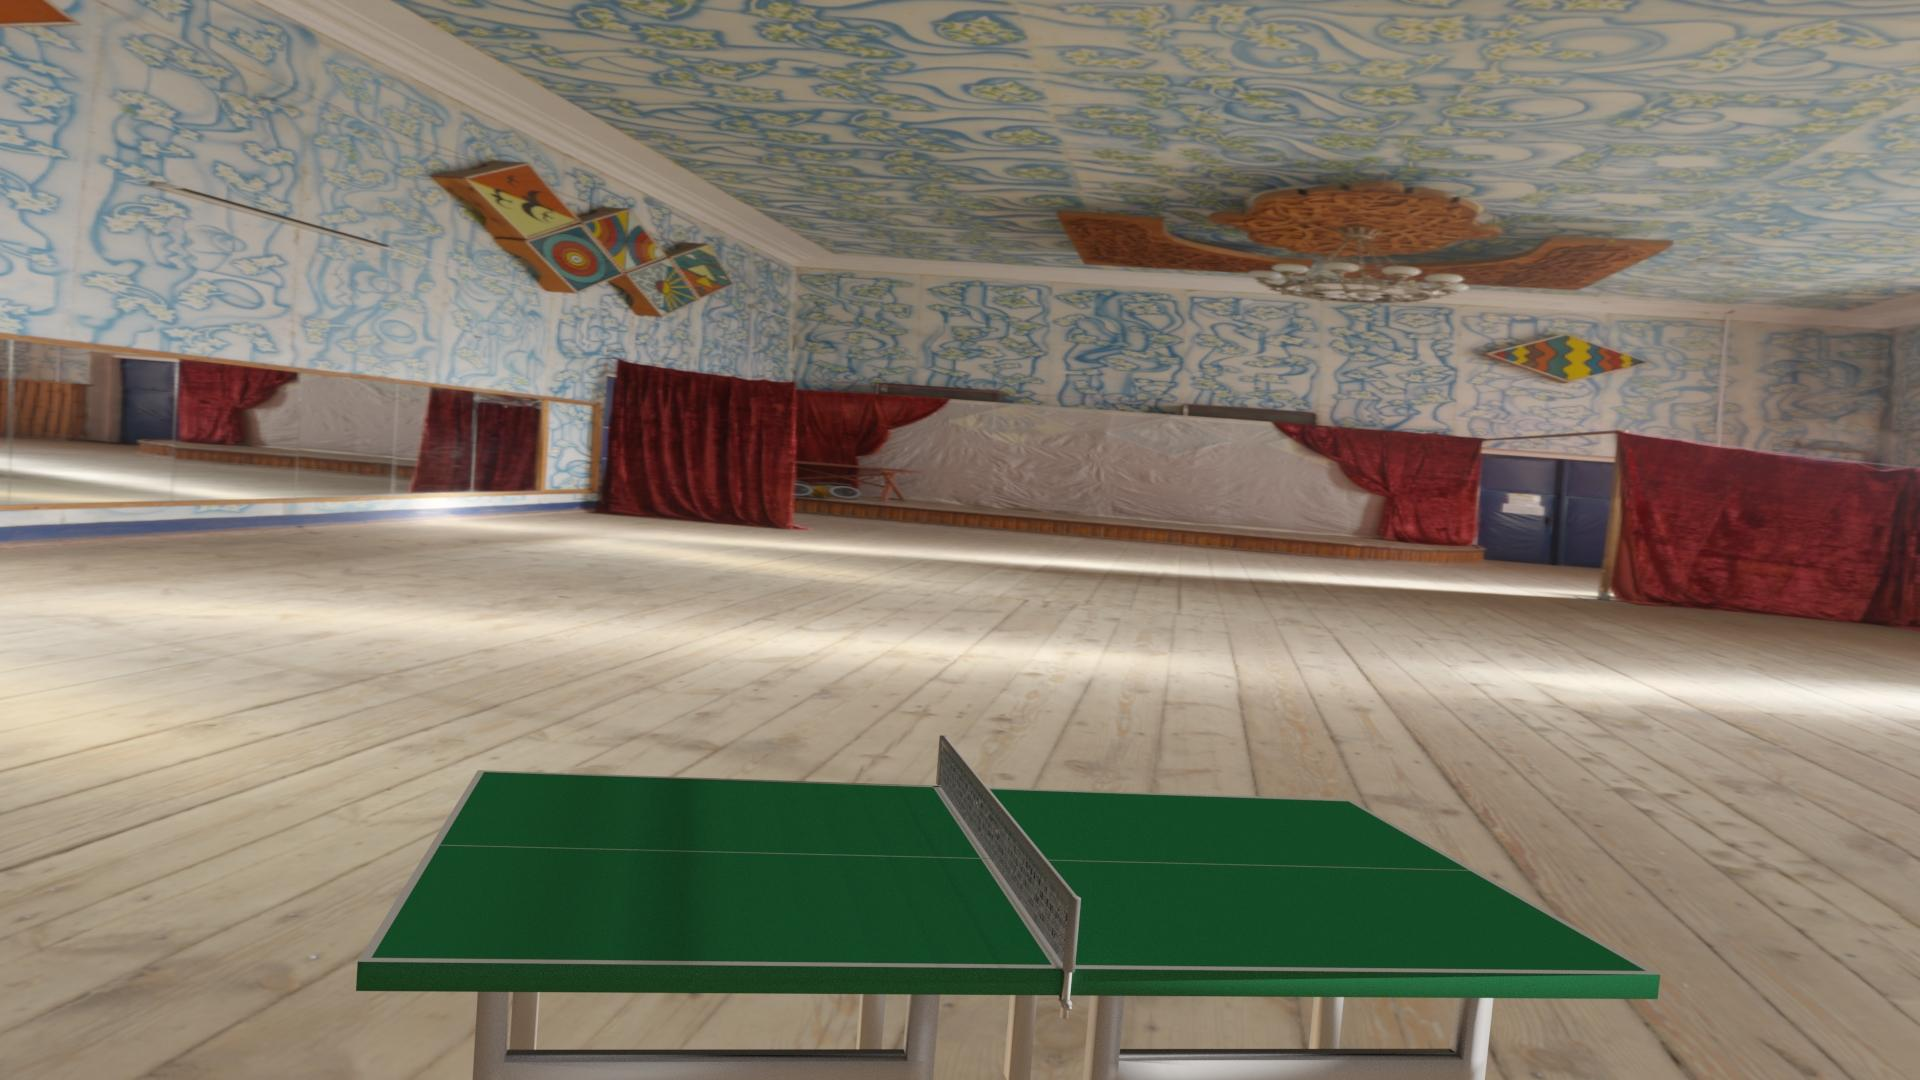table: (371, 771, 1647, 971)
